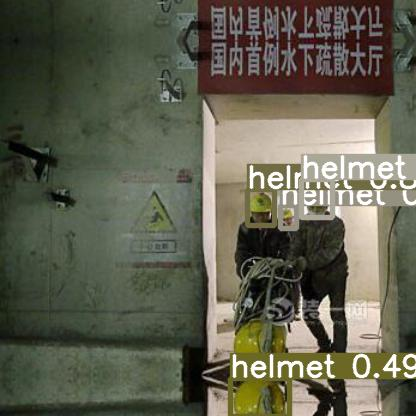helmet: (230, 378, 289, 416), (301, 179, 332, 217), (247, 189, 274, 225), (280, 205, 296, 228)
